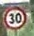limite 30: (3, 5, 26, 30)
